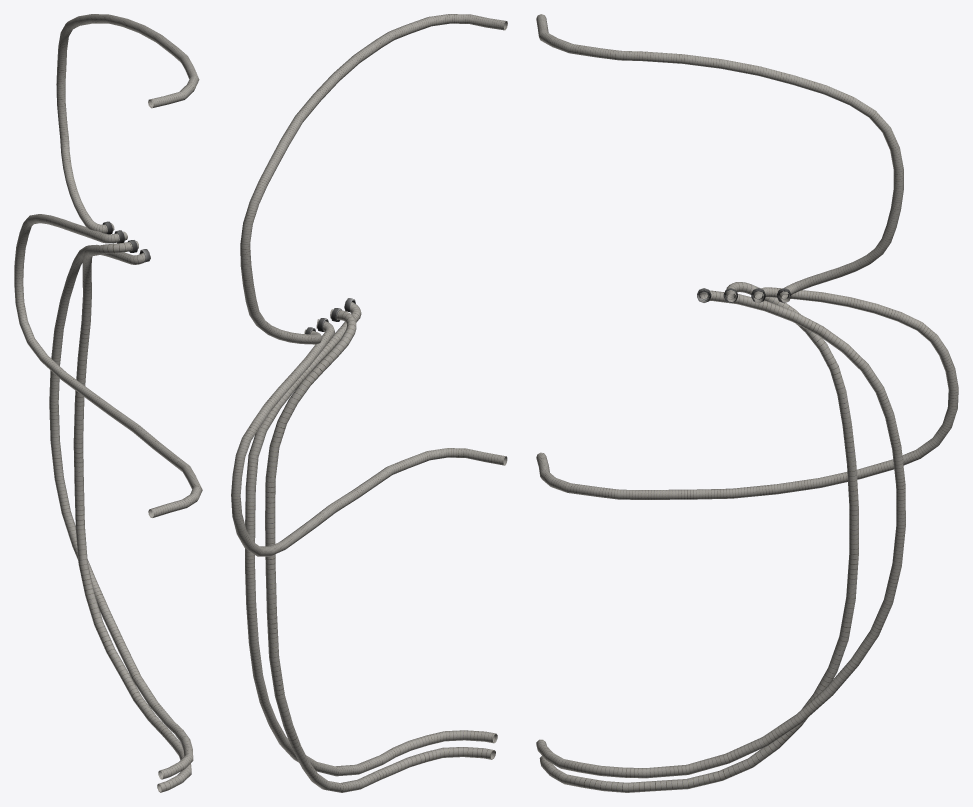
File: fxanim_mp_nuked2025_carwash_hoses_mod_LOD0.obj
3 renders of one model, left to right at view 1: azimuth 30°, elevation 25°; view 2: azimuth 150°, elevation 25°; view 3: azimuth 270°, elevation 25°, orthographic. The views are drawn at different scales.
Visible parts, largest first — view 1: plastic_vinylsiding_grey, mtl_nt_2020_car_wash_hoses; view 2: plastic_vinylsiding_grey; view 3: plastic_vinylsiding_grey.
Boxes of the visible parts, <box> form: plastic_vinylsiding_grey: <box>14,14,202,792</box>; mtl_nt_2020_car_wash_hoses: <box>102,221,150,262</box>; plastic_vinylsiding_grey: <box>231,14,507,792</box>; plastic_vinylsiding_grey: <box>536,14,958,792</box>.
Bounding box in the file's own units: 50.77 × 404 × 208.
